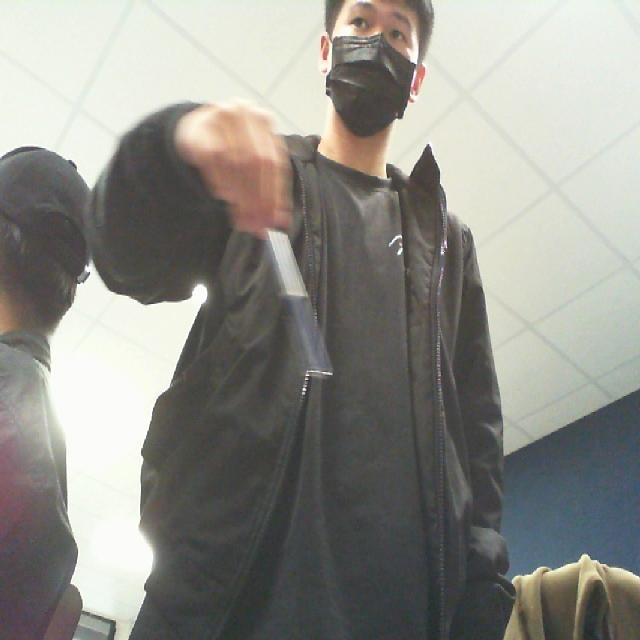Pen: (245, 199, 347, 405)
